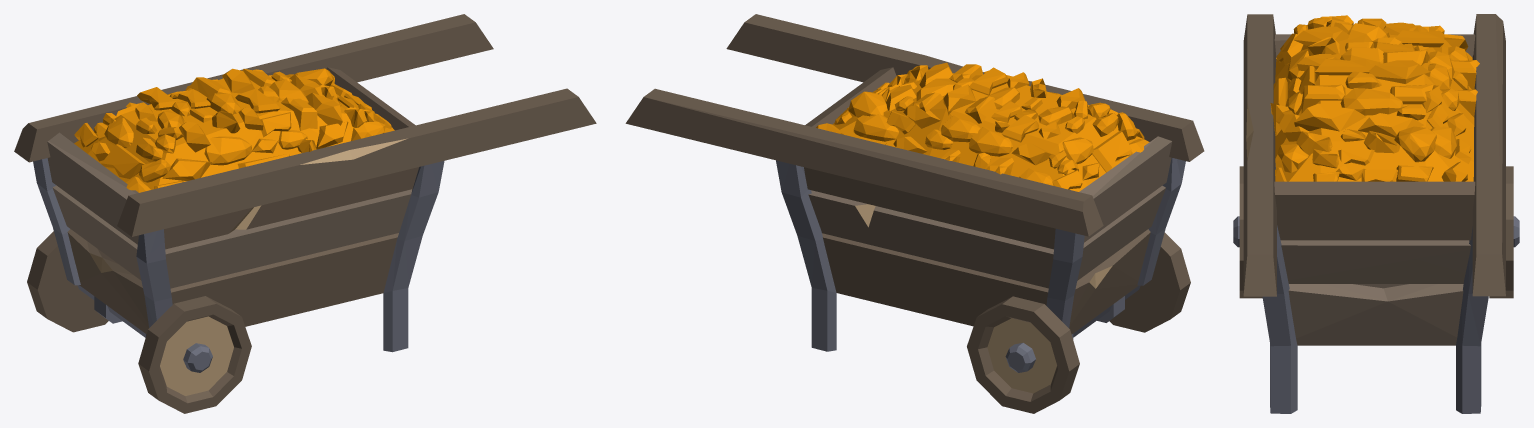
Rendered from _wheelbarrow_gold.fbx.
The picture shows the model from 3 angles, left to right: view 1: azimuth 30°, elevation 25°; view 2: azimuth 150°, elevation 25°; view 3: azimuth 270°, elevation 25°; orthographic projection. The views are drawn at different scales.
Visible parts, largest first — view 1: wheel_barrow_gold; view 2: wheel_barrow_gold; view 3: wheel_barrow_gold.
Part boxes in pixels (<box>): wheel_barrow_gold: <box>14,14,596,413</box>; wheel_barrow_gold: <box>625,14,1204,413</box>; wheel_barrow_gold: <box>1233,14,1519,413</box>.
Bounding box in the file's own units: 187 × 98.98 × 88.67.
